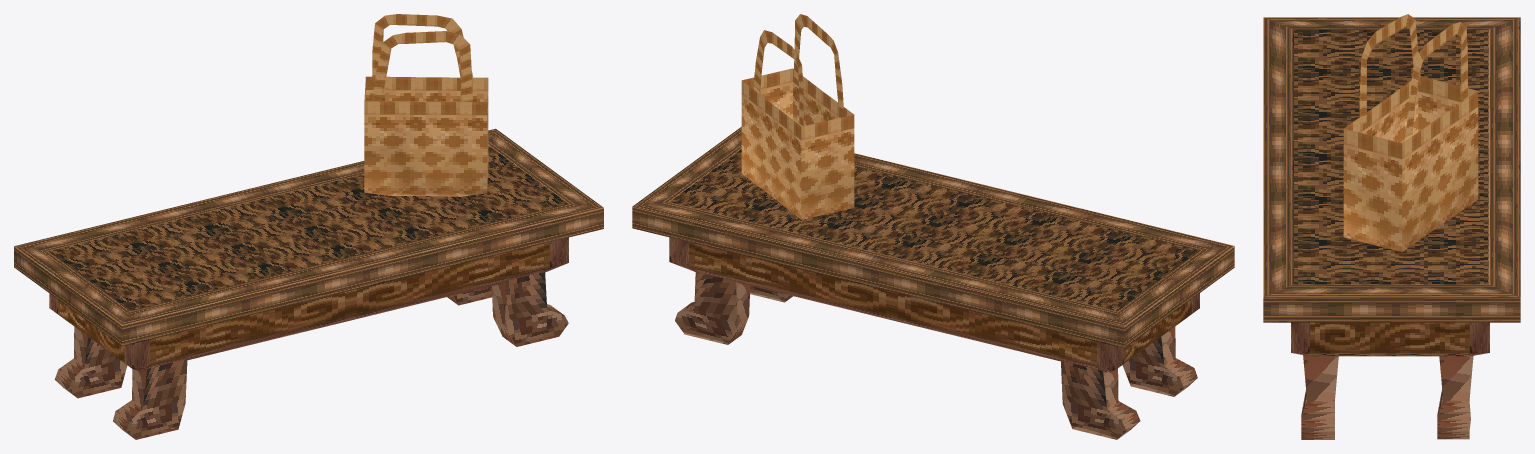
File: o_tuku2.glb
The picture shows the model from 3 angles, left to right: view 1: azimuth 30°, elevation 25°; view 2: azimuth 150°, elevation 25°; view 3: azimuth 270°, elevation 25°; orthographic projection. The views are drawn at different scales.
Visible parts, largest first — view 1: o_tuku2; view 2: o_tuku2; view 3: o_tuku2.
Boxes of the visible parts, <box> form: o_tuku2: <box>14,14,603,439</box>; o_tuku2: <box>632,14,1234,439</box>; o_tuku2: <box>1263,14,1520,439</box>.
Size of the model in its own units: 453 by 272 by 176.
8 materials, 8 textured.
